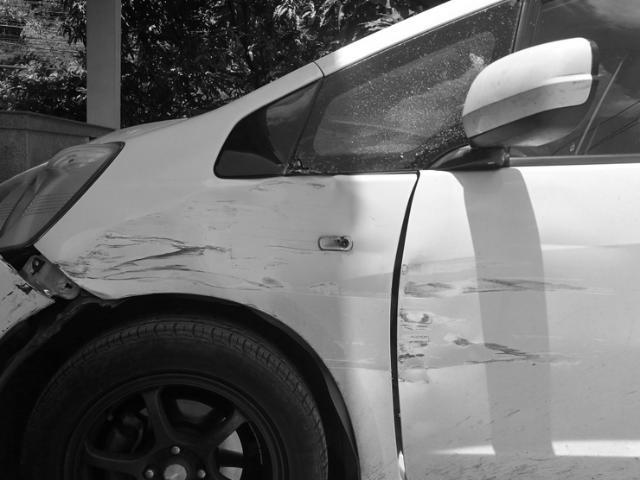Bumper: (0, 250, 45, 339)
Door: (397, 217, 625, 431)
Fender: (65, 206, 347, 311)
